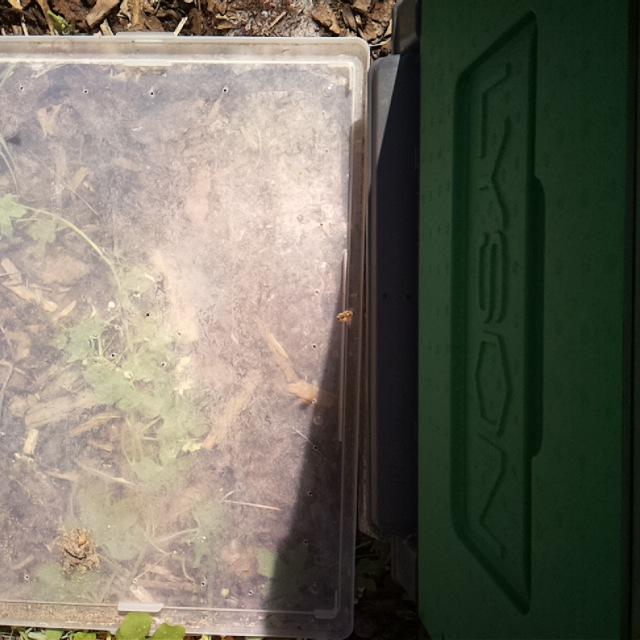worker-bee: (331, 308, 361, 329)
